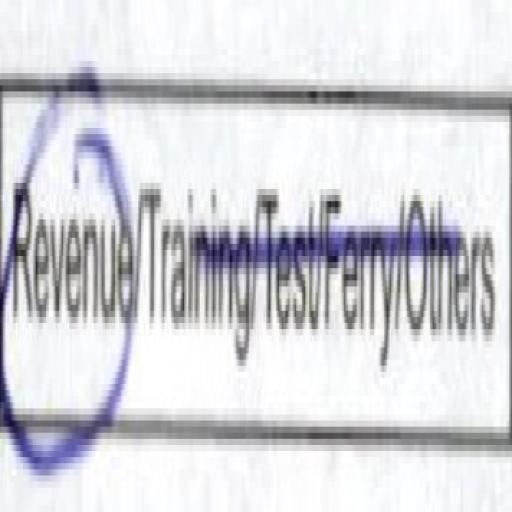check: (2, 53, 137, 509)
